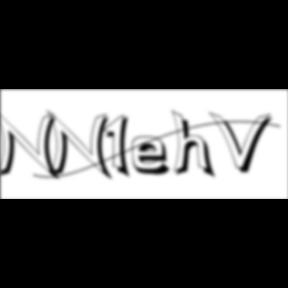1: (101, 114, 136, 182)
N: (46, 109, 116, 183), (0, 109, 64, 183)
V: (210, 110, 276, 176)
e: (132, 135, 178, 178)
h: (172, 108, 218, 182)
